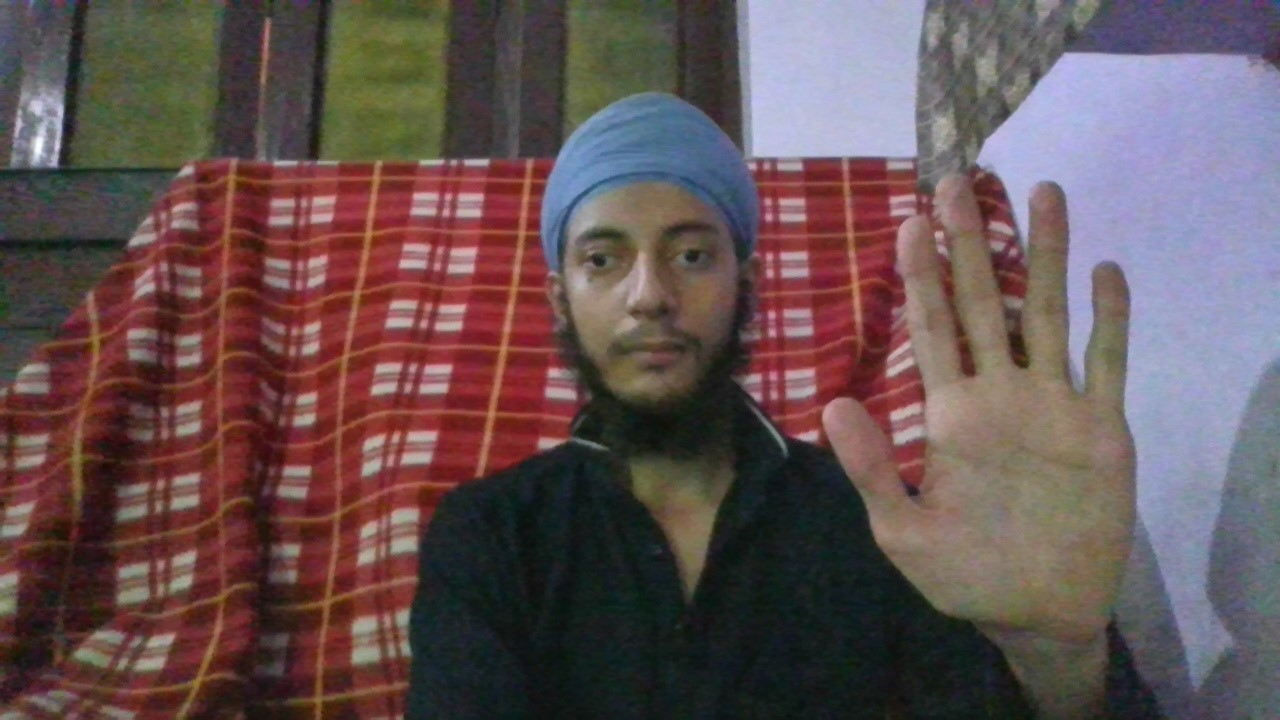Hello: (817, 169, 1142, 640)
